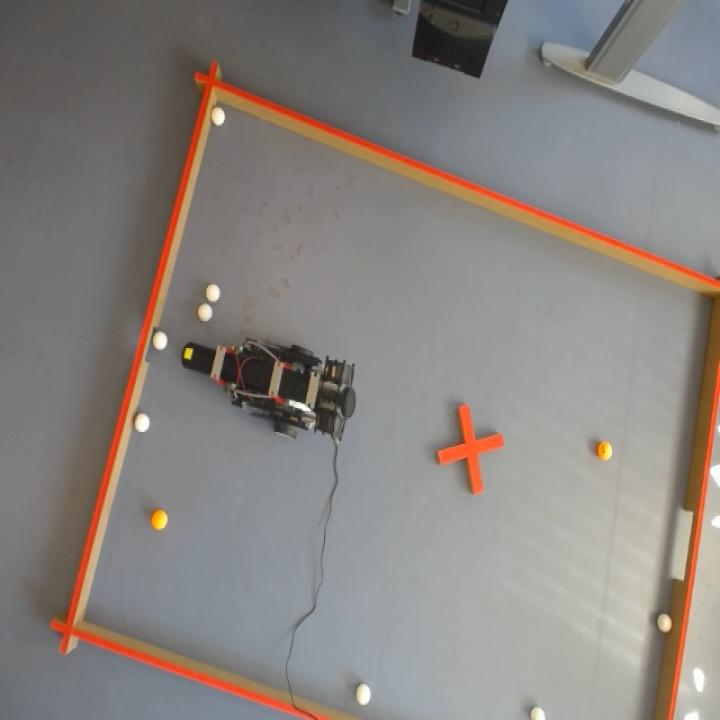orange: (150, 509, 168, 531), (598, 441, 612, 461)
robot: (181, 338, 357, 442)
robot-front: (182, 342, 212, 374)
white: (205, 282, 221, 304), (356, 683, 371, 705), (152, 331, 168, 350), (657, 613, 672, 633), (135, 413, 150, 433), (198, 302, 213, 322), (211, 106, 225, 126), (530, 705, 546, 720)
